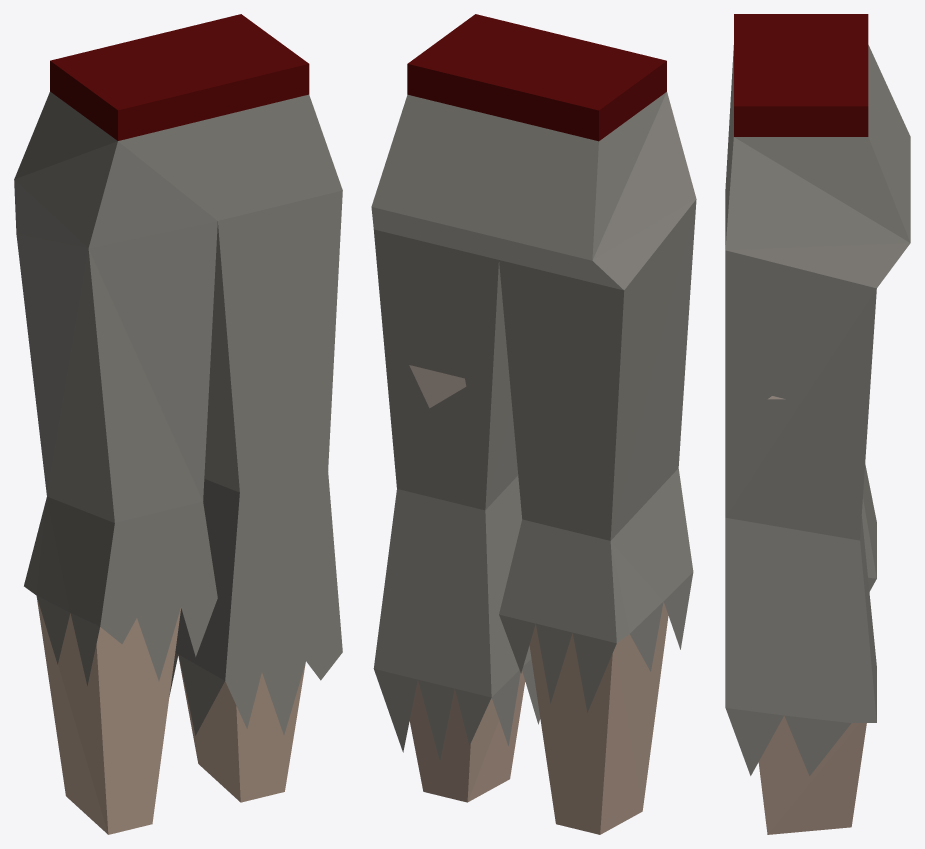
File: man-legs.glb
3 renders of one model, left to right at view 1: azimuth 30°, elevation 25°; view 2: azimuth 150°, elevation 25°; view 3: azimuth 270°, elevation 25°, orthographic.
Visible parts, largest first — view 1: runescapemodel; view 2: runescapemodel; view 3: runescapemodel.
Boxes of the visible parts, x1,y1,x2,y2 form: runescapemodel: (14, 14, 342, 834); runescapemodel: (371, 14, 696, 834); runescapemodel: (725, 14, 910, 834).
Bounding box in the file's own units: 34 × 96 × 22.
